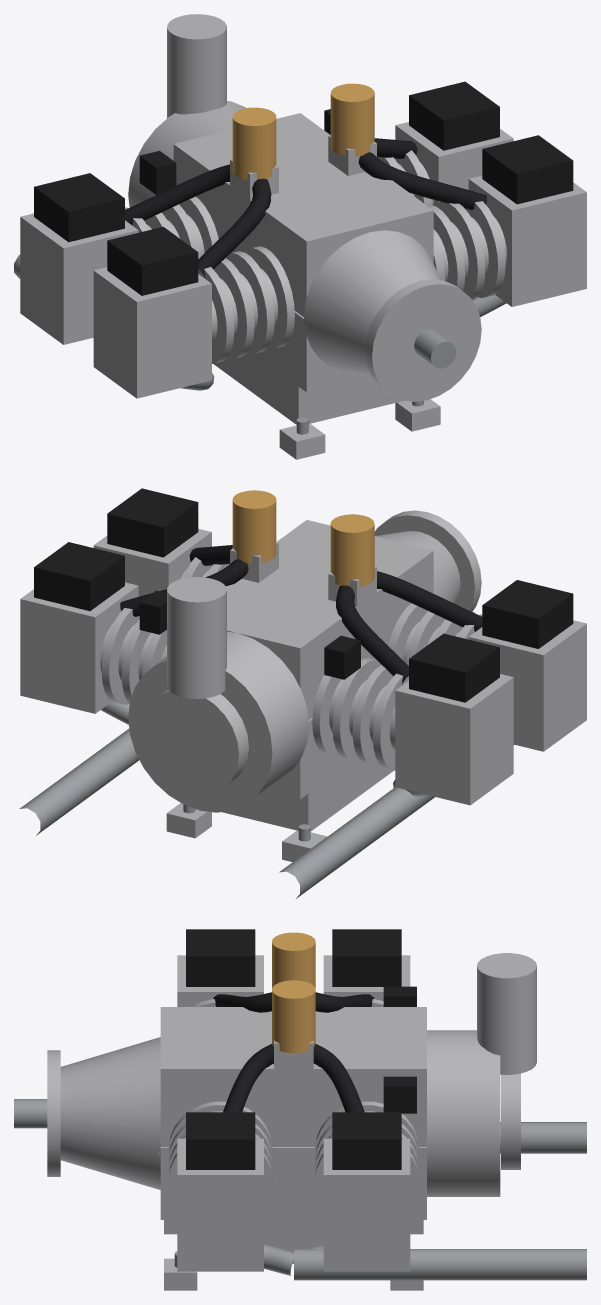
The model's file is rotax-style-912-boxer-uav-engine.glb.
The picture shows the model from 3 angles, top to bottom: view 1: azimuth 30°, elevation 25°; view 2: azimuth 150°, elevation 25°; view 3: azimuth 270°, elevation 25°; orthographic projection.
Parts seen in each view (by area): view 1: crankcase_block, cylinder_head_fl, gearbox_housing, prop_flange, cylinder_head_fr, cylinder_head_rl, oil_tank, sump_pan, valve_cover_fr, valve_cover_fl, valve_cover_rr, valve_cover_rl (+25 smaller); view 2: crankcase_block, flywheel_housing, cylinder_head_rl, cylinder_head_rr, flywheel_rear_cap, cylinder_head_fl, oil_tank, exhaust_tailpipe_l, valve_cover_fr, valve_cover_fl, valve_cover_rl, valve_cover_rr (+28 smaller); view 3: crankcase_block, gearbox_housing, flywheel_housing, cylinder_head_rr, cylinder_head_fr, exhaust_tailpipe_r, oil_tank, valve_cover_fr, valve_cover_rr, valve_cover_fl, valve_cover_rl, carburetor_body_r (+22 smaller).
Boxes of the visible parts, x1,y1,x2,y2 form: crankcase_block: [173, 113, 433, 392]; cylinder_head_fl: [93, 267, 211, 398]; gearbox_housing: [304, 230, 441, 375]; prop_flange: [365, 279, 481, 401]; cylinder_head_fr: [468, 175, 586, 306]; cylinder_head_rl: [20, 213, 138, 344]; oil_tank: [167, 14, 226, 118]; sump_pan: [213, 353, 403, 424]; valve_cover_fr: [482, 135, 573, 204]; valve_cover_fl: [107, 226, 198, 295]; valve_cover_rr: [409, 81, 499, 150]; valve_cover_rl: [34, 173, 124, 242]; crankcase_block: [226, 520, 433, 799]; flywheel_housing: [128, 631, 308, 812]; cylinder_head_rl: [395, 674, 513, 805]; cylinder_head_rr: [20, 582, 138, 713]; flywheel_rear_cap: [141, 689, 248, 795]; cylinder_head_fl: [468, 620, 586, 751]; oil_tank: [167, 577, 226, 698]; exhaust_tailpipe_l: [279, 787, 434, 899]; valve_cover_fr: [107, 488, 198, 557]; valve_cover_fl: [482, 580, 573, 648]; valve_cover_rl: [409, 633, 499, 702]; valve_cover_rr: [34, 542, 124, 610]; crankcase_block: [160, 1007, 426, 1219]; gearbox_housing: [60, 1037, 160, 1189]; flywheel_housing: [427, 1030, 500, 1196]; cylinder_head_rr: [323, 1138, 410, 1271]; cylinder_head_fr: [177, 1138, 263, 1271]; exhaust_tailpipe_r: [294, 1249, 586, 1280]; oil_tank: [477, 953, 536, 1074]; valve_cover_fr: [186, 1112, 255, 1169]; valve_cover_rr: [332, 1112, 401, 1169]; valve_cover_fl: [186, 929, 255, 986]; valve_cover_rl: [332, 929, 401, 986]; carburetor_body_r: [272, 980, 315, 1052].
Size of the model in its own units: 0.78 by 0.48 by 0.86.
